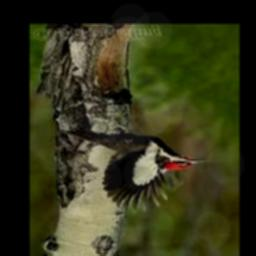Woodpecker: (62, 125, 210, 212)
